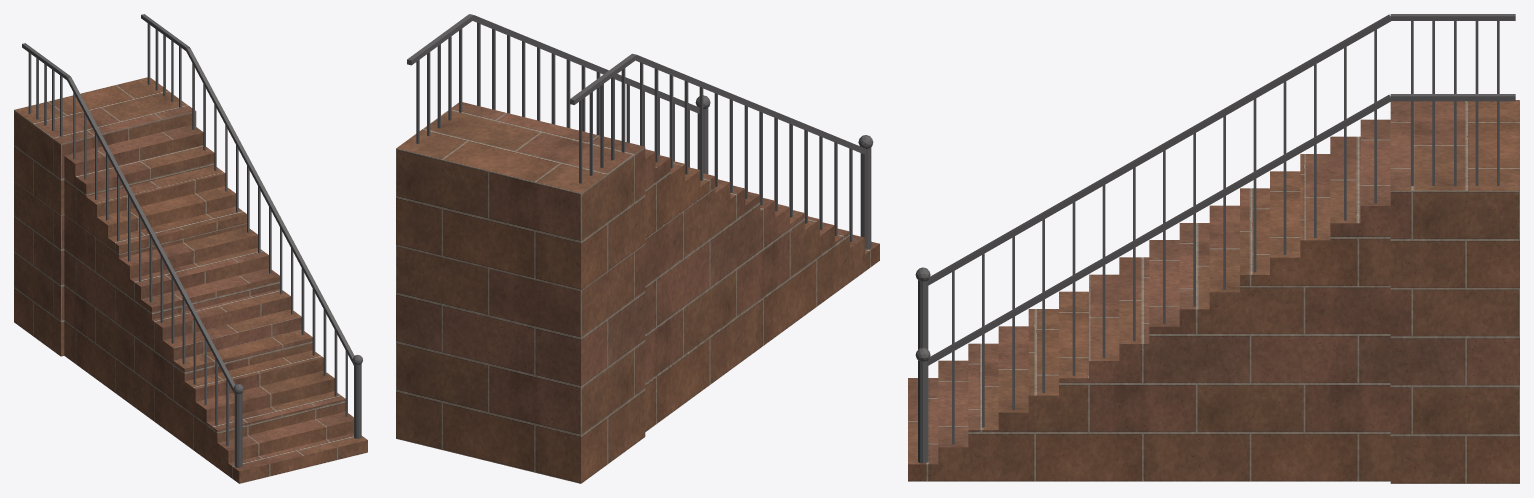
The model's file is stoop.glb.
The picture shows the model from 3 angles, left to right: view 1: azimuth 30°, elevation 25°; view 2: azimuth 150°, elevation 25°; view 3: azimuth 270°, elevation 25°; orthographic projection. The views are drawn at different scales.
Parts seen in each view (by area): view 1: stoop_stone, stoop_iron; view 2: stoop_stone, stoop_iron; view 3: stoop_stone, stoop_iron.
Boxes of the visible parts, x1,y1,x2,y2 form: stoop_stone: (14,77,367,483); stoop_iron: (22,14,362,467); stoop_stone: (396,102,879,483); stoop_iron: (407,14,873,249); stoop_stone: (908,100,1519,483); stoop_iron: (915,14,1515,463).
Bounding box in the file's own units: 2 × 3.92 × 5.68.
2 materials, 1 textured.
